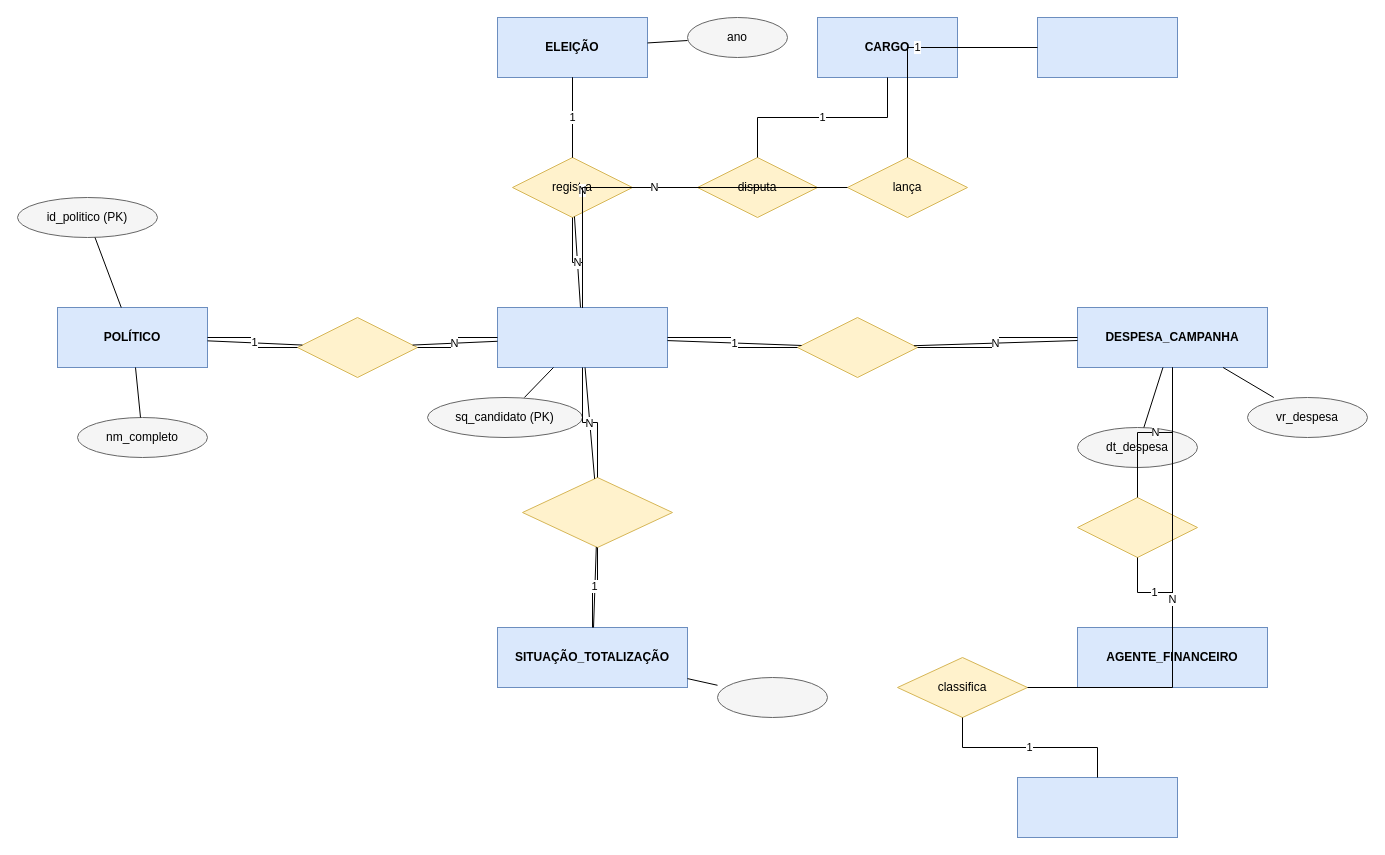
Some shapes in this 1385 by 855 pixel diagram are drawn without their labels. Each missing label, with the box of its shape:
CANDIDATURA: (496, 306, 668, 368)
concorre: (296, 316, 418, 378)
fl_eleito: (716, 676, 828, 718)
fornece: (1076, 496, 1198, 558)
gasta: (796, 316, 918, 378)
PARTIDO: (1036, 16, 1178, 78)
possui resultado: (522, 476, 672, 548)
TIPO_DESPESA: (1016, 776, 1178, 838)
